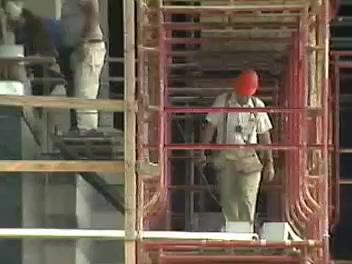no -hi-vis jacket: (209, 102, 265, 167)
